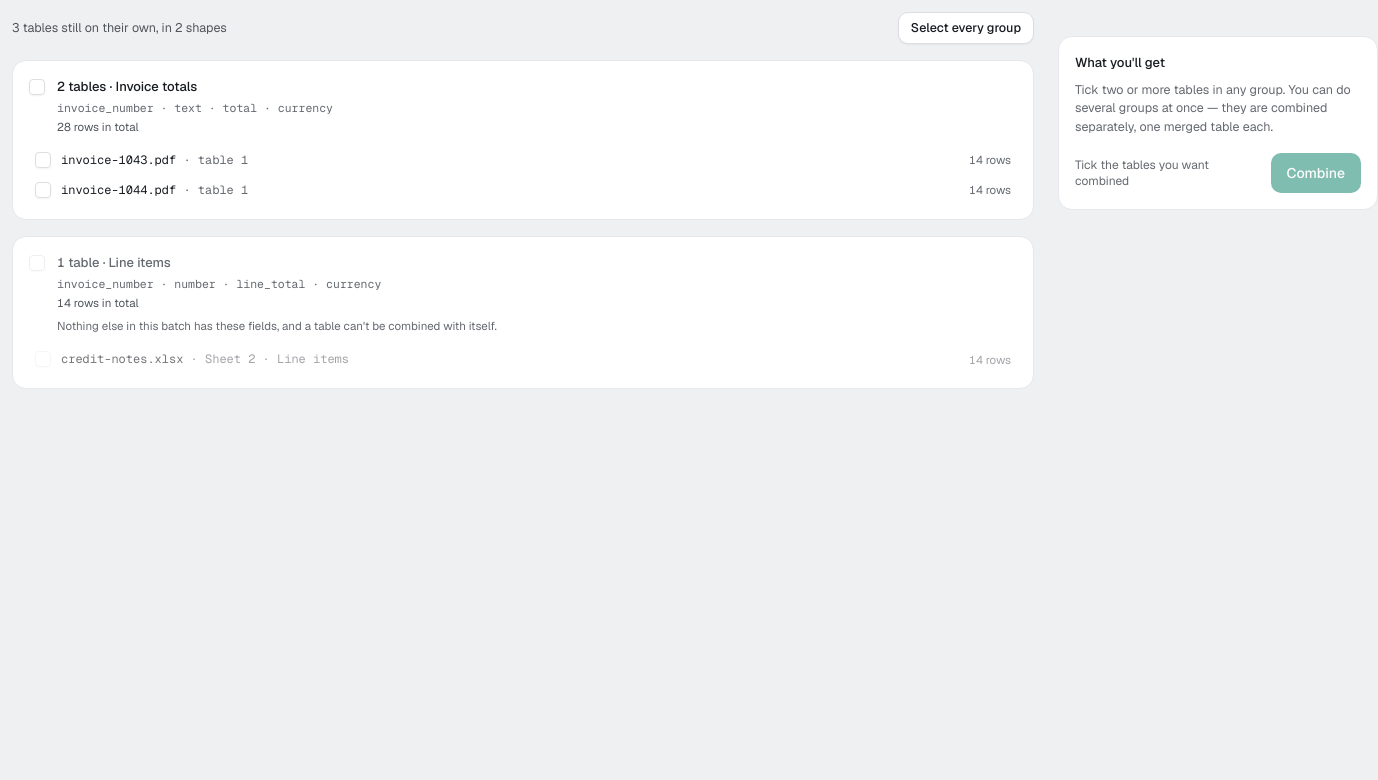
Test case: MergePicker › preserves the selection when a merge is refused, and names the card
Click the checkbox named "Select all 2 tables with the Invoice totals shape" at (37, 87), box [29,79,45,95]
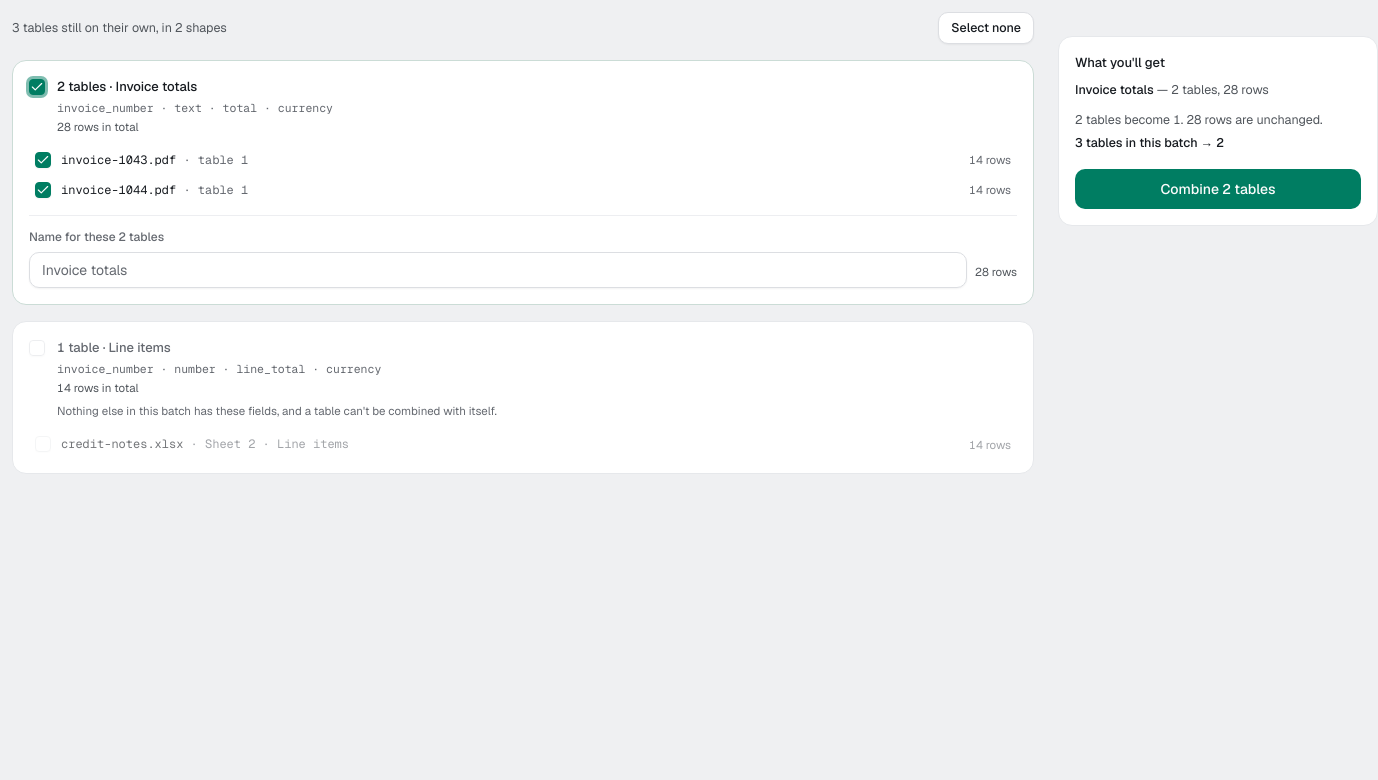
Click the button "Combine 2 tables" at (1218, 189), box [1075,169,1361,209]
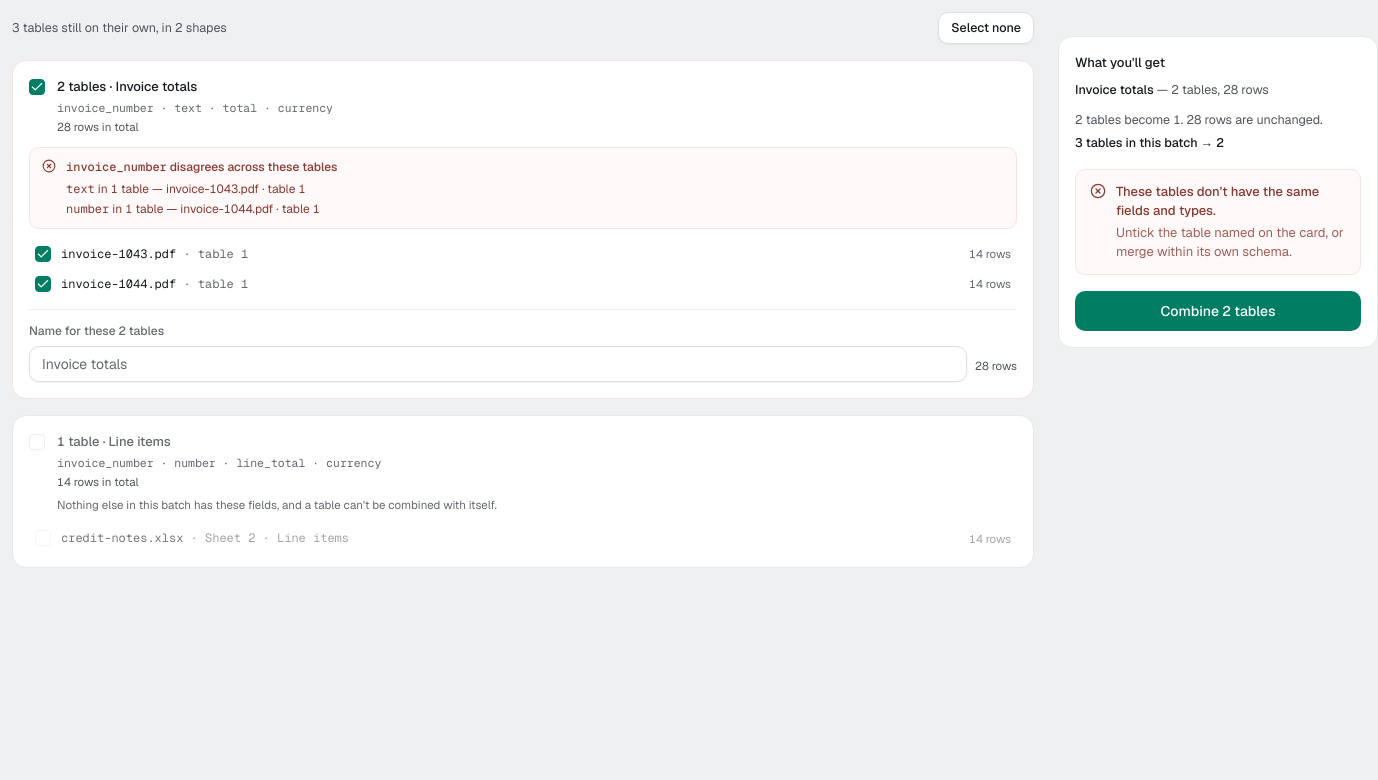
Result: the checkbox named "invoice-1043.pdf · table 1" is checked at [35,246,51,262]
Result: the text "invoice_number" is shown at [66,159,167,175]
Result: the text "2 tables · Invoice totals" shows "text in 1 table — invoice-1043.pdf · table 1" at [12,60,1034,399]
